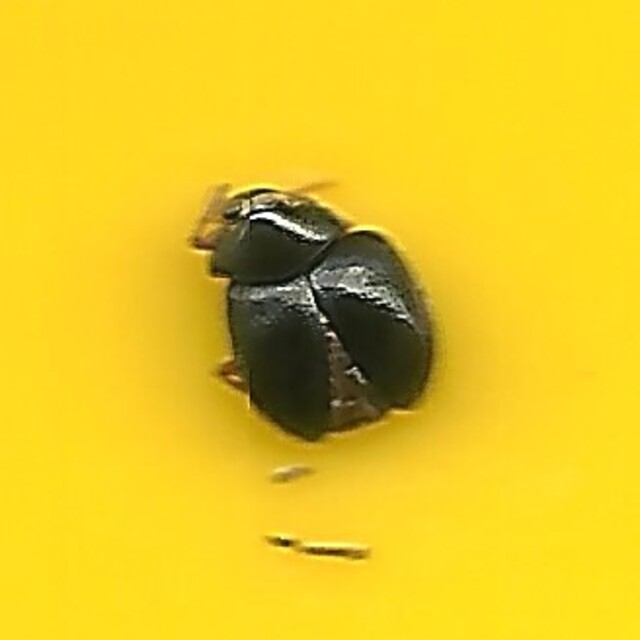Coleoptera: (195, 183, 445, 457)
